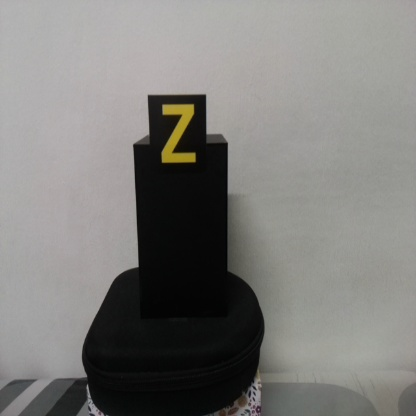id_15: (147, 95, 208, 178)
